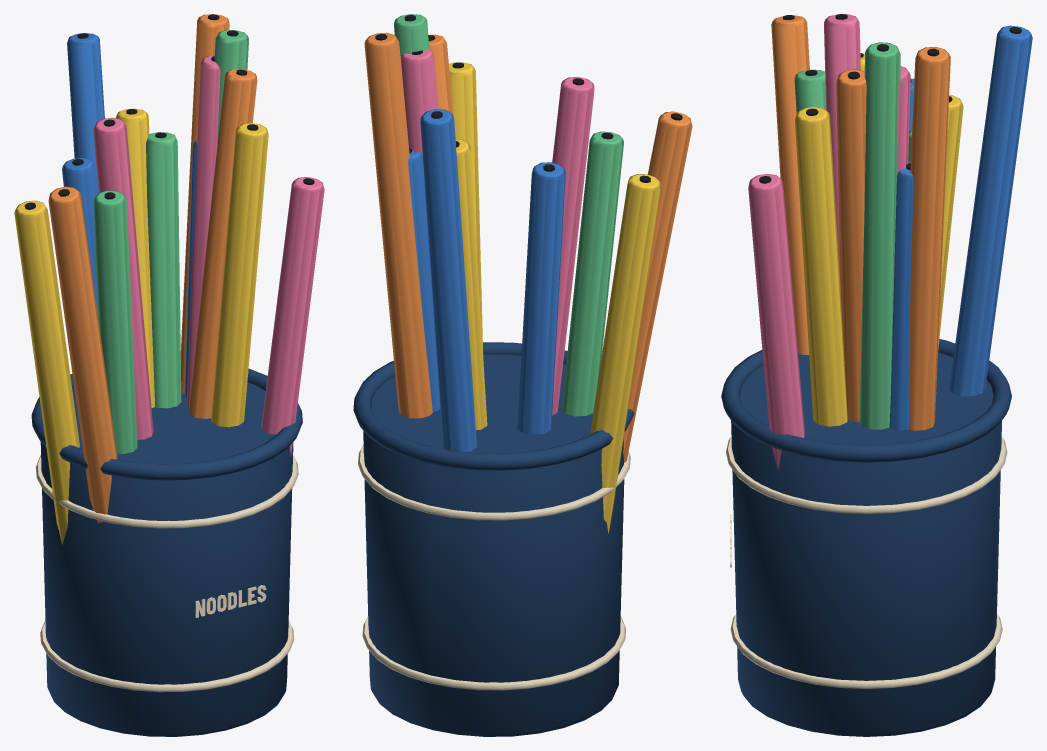
Rendered from noodle_bin.glb.
The picture shows the model from 3 angles, left to right: view 1: azimuth 30°, elevation 25°; view 2: azimuth 150°, elevation 25°; view 3: azimuth 270°, elevation 25°; orthographic projection. The views are drawn at different scales.
Parts seen in each view (by area): view 1: NoodleBinBody; view 2: NoodleBinBody; view 3: NoodleBinBody.
Boxes of the visible parts, left/top/right/bottom form: NoodleBinBody: left=14, top=14, right=324, bottom=736; NoodleBinBody: left=353, top=14, right=692, bottom=736; NoodleBinBody: left=721, top=14, right=1032, bottom=736.
Size of the model in its own units: 0.6548 by 1.45 by 0.6064.
